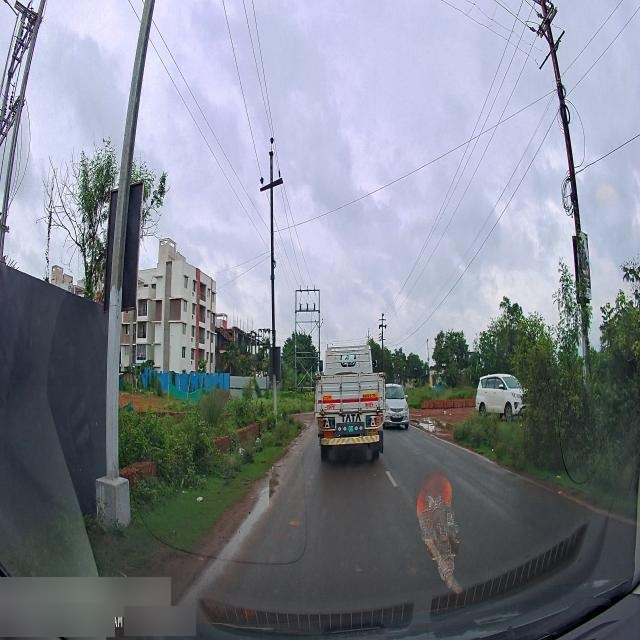pothole: (254, 466, 280, 531), (418, 414, 449, 433)
